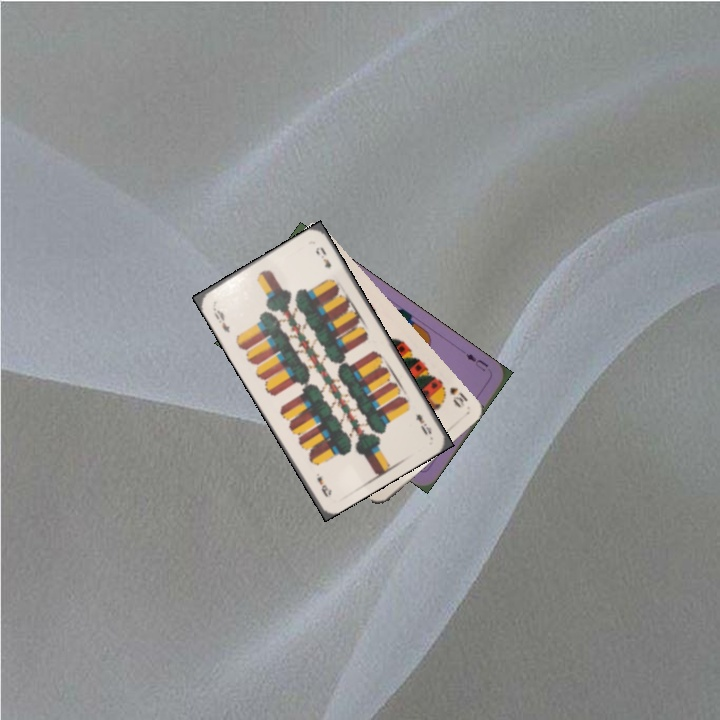E9: (209, 303, 233, 336), (411, 410, 434, 437)
EU: (462, 349, 491, 374)
S10: (436, 378, 470, 410)
